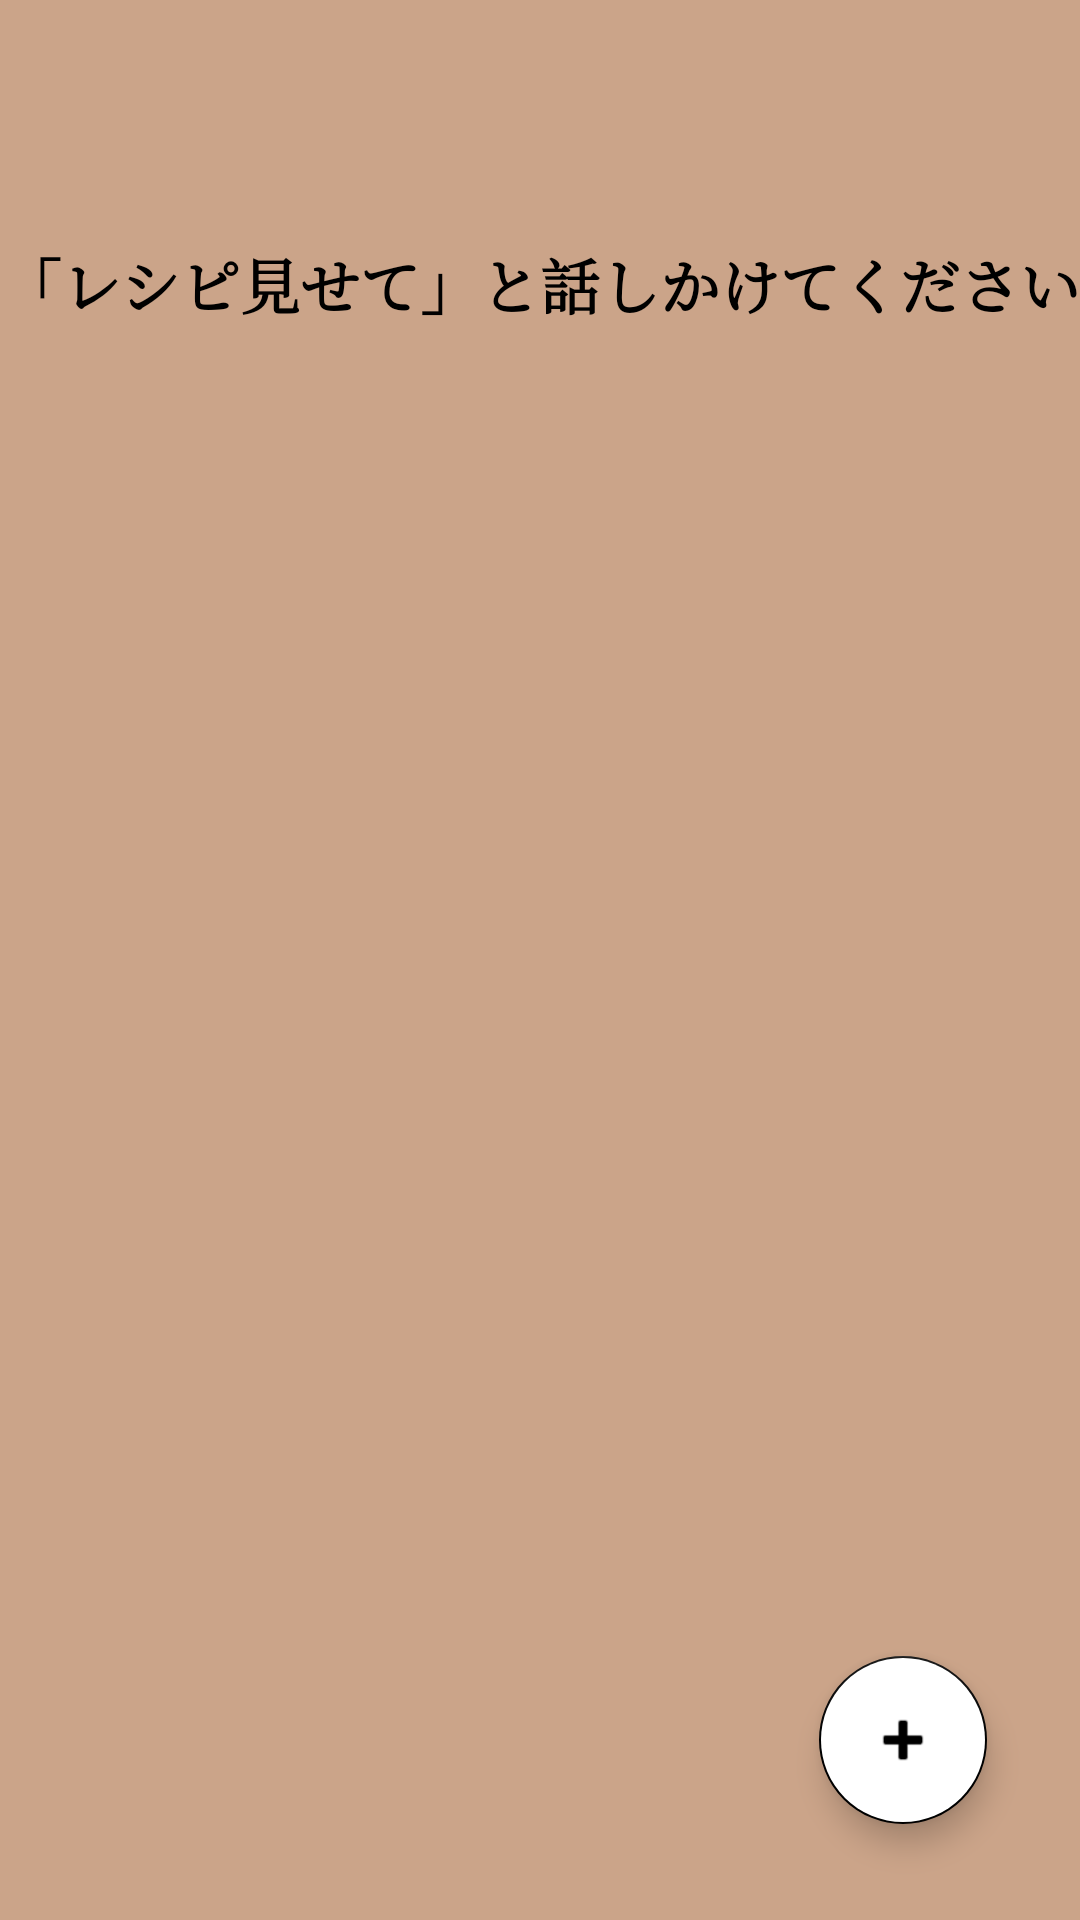

Screen size 1080 x 1920. Icon name, then its center in pixels as point (x, y):
add: point (903, 1740)
